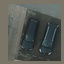car: (20, 20, 36, 50), (41, 24, 57, 54)
